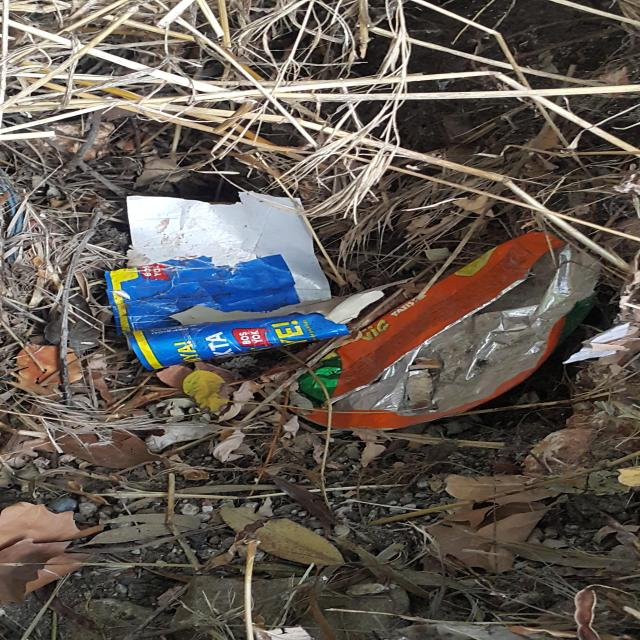Crisp packet: (288, 231, 604, 431)
Other plastic: (105, 191, 411, 370)
